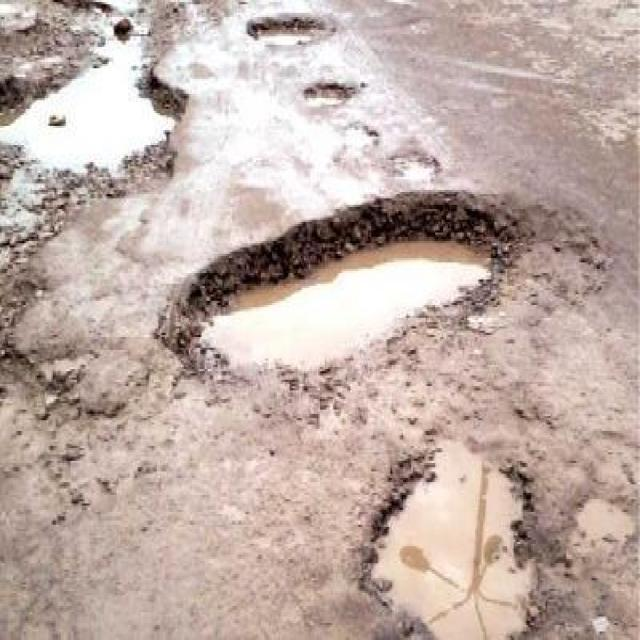pothole: (155, 155, 540, 422), (165, 184, 610, 406), (355, 427, 544, 638), (357, 433, 537, 640), (2, 346, 100, 410), (0, 348, 83, 412), (247, 9, 338, 52), (379, 141, 447, 196), (250, 9, 332, 53), (572, 491, 639, 542), (576, 494, 637, 548), (330, 117, 378, 164), (386, 147, 444, 184), (336, 119, 381, 160), (302, 79, 360, 109), (302, 79, 353, 108)
